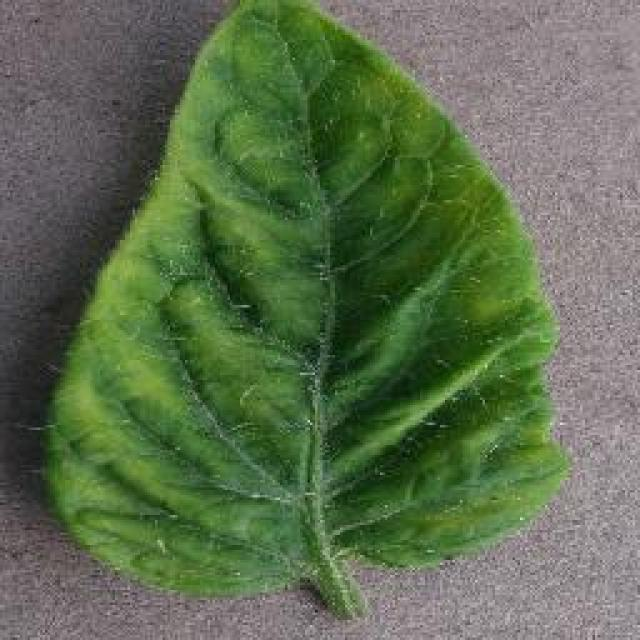Tomato yellow virus leaf: (40, 0, 567, 597)
